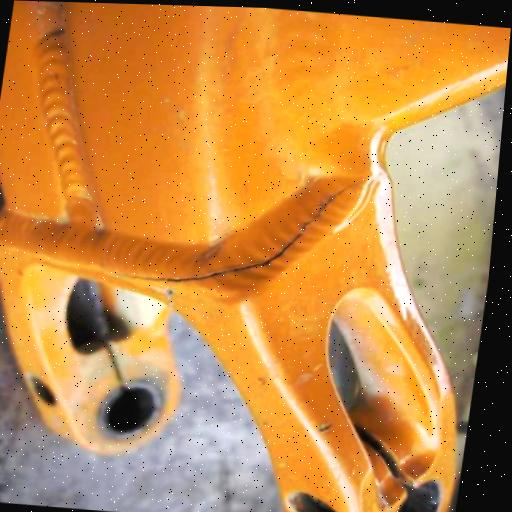crack: (120, 177, 356, 285)
